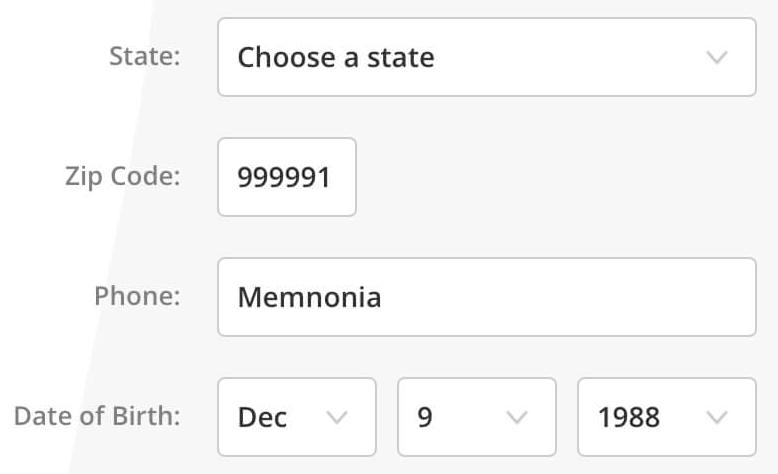field: (211, 256, 754, 337), (215, 17, 758, 96), (575, 379, 756, 458), (394, 377, 561, 460), (213, 379, 379, 458), (211, 133, 354, 219)
field_with_label: (94, 252, 757, 343), (110, 9, 762, 98), (21, 373, 387, 466), (66, 127, 360, 223)
